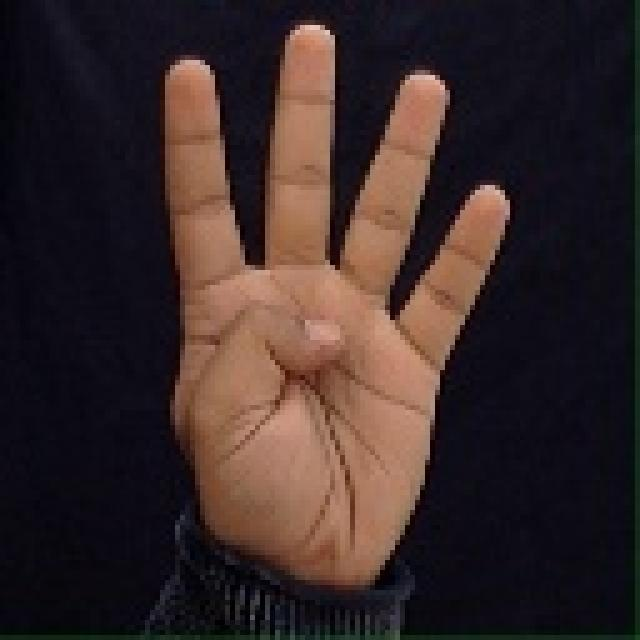Thanks: (122, 17, 512, 586)
